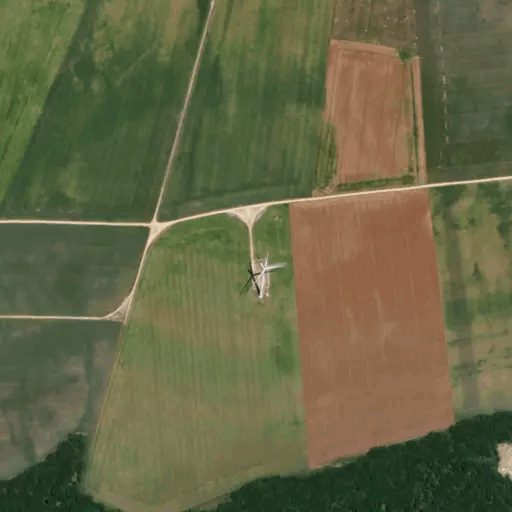wt: (230, 246, 294, 305)
